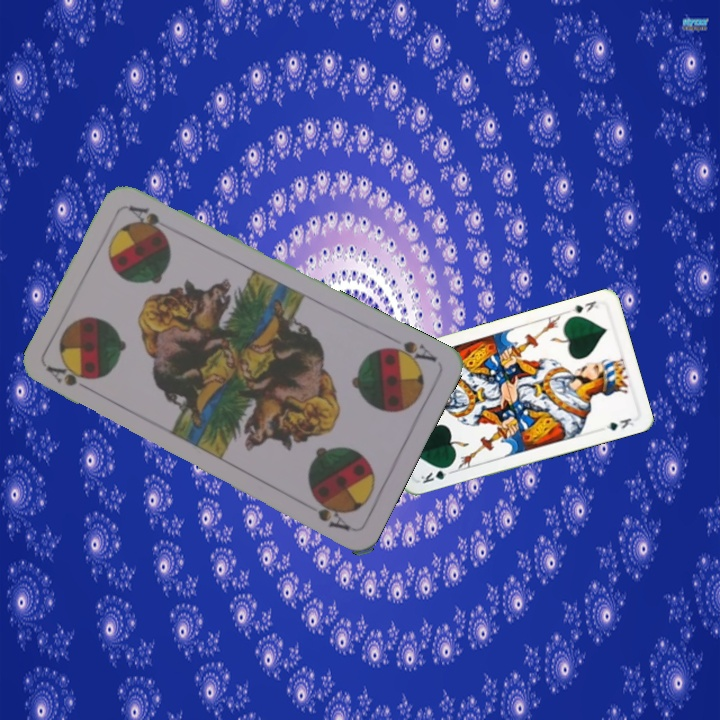GK: (416, 462, 456, 486), (568, 297, 601, 316)
SA: (380, 332, 440, 369), (43, 362, 99, 396)
